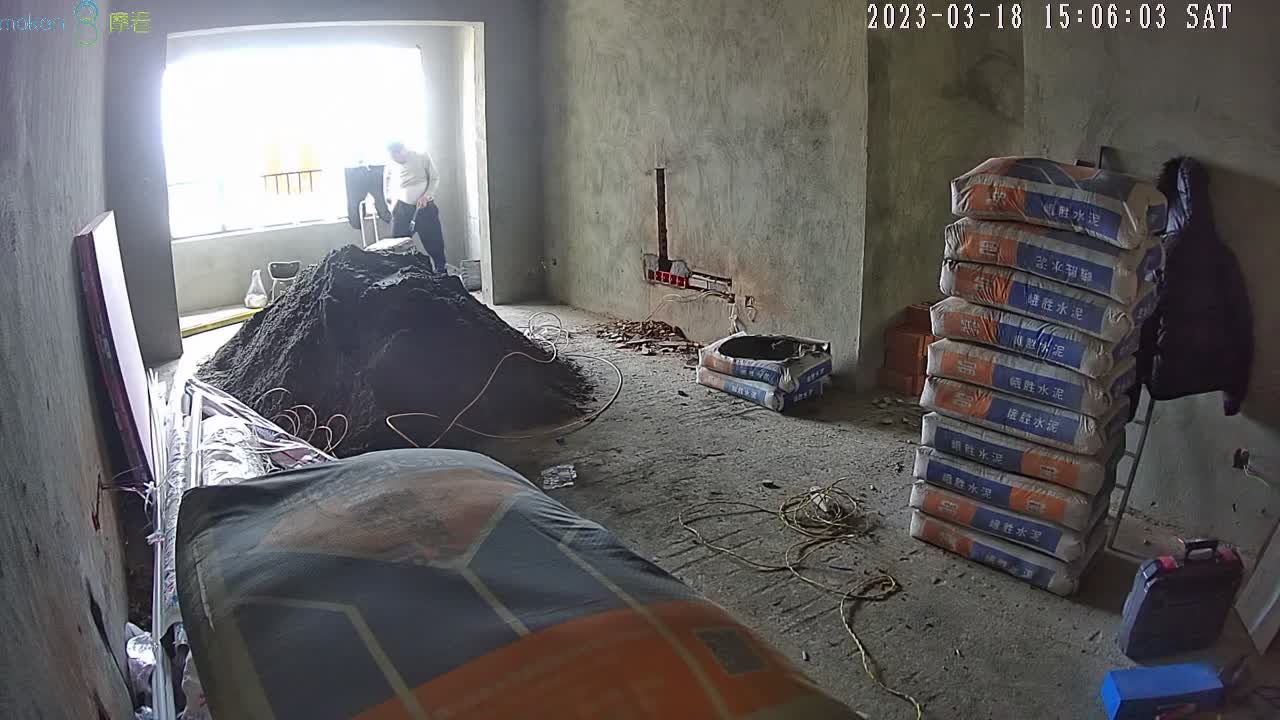people: (383, 137, 452, 282)
window: (167, 44, 428, 239)
